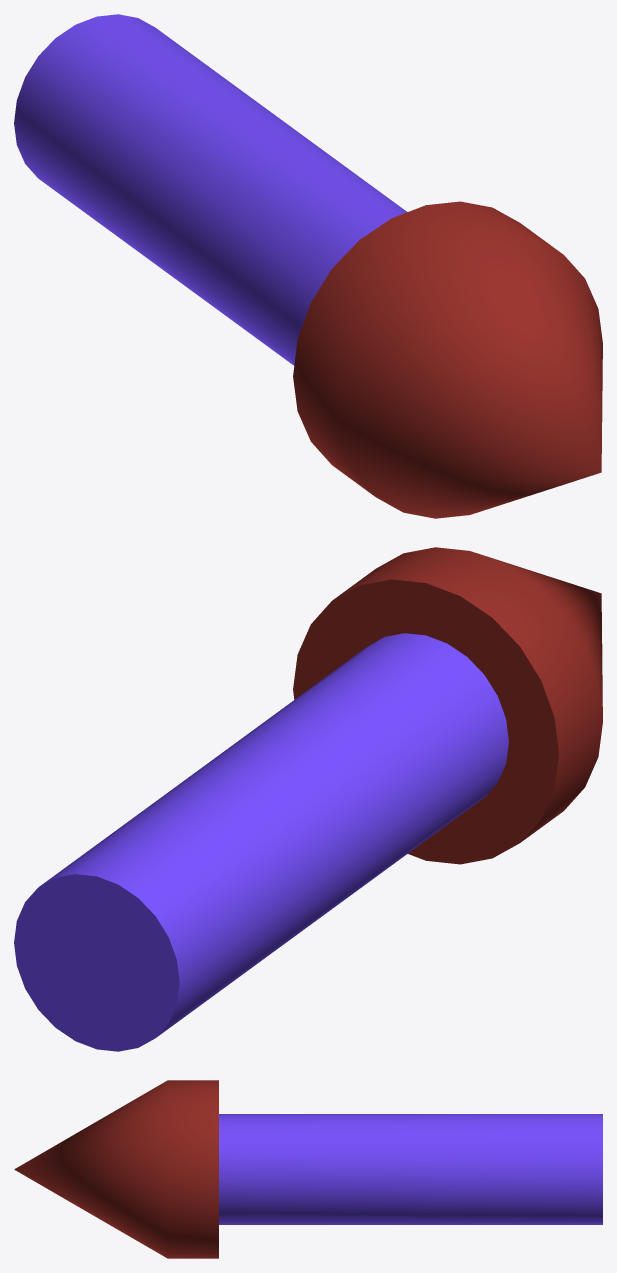
Rendered from Direction Arrow.fbx.
The picture shows the model from 3 angles, top to bottom: view 1: azimuth 30°, elevation 25°; view 2: azimuth 150°, elevation 25°; view 3: azimuth 270°, elevation 25°; orthographic projection. The views are drawn at different scales.
Parts seen in each view (by area): view 1: Group1; view 2: Group1; view 3: Group1.
Part boxes in pixels (bbox=[...]): Group1: bbox=[14, 14, 602, 518]; Group1: bbox=[14, 547, 602, 1051]; Group1: bbox=[14, 1080, 602, 1258].
Size of the model in its own units: 0.7 by 0.6983 by 2.3.
